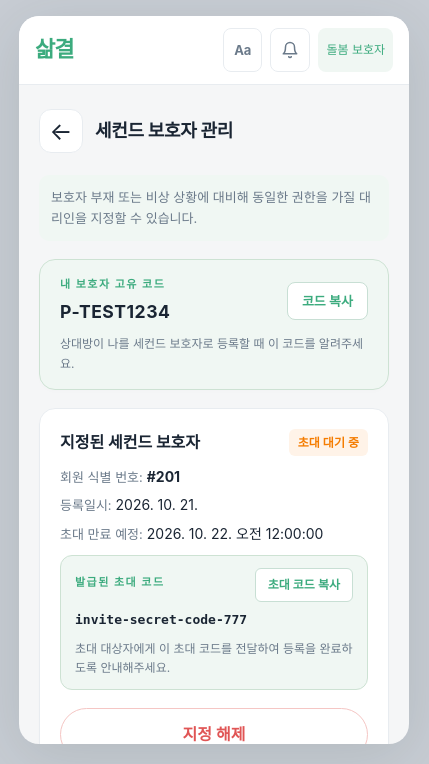
it: SecondaryGuardianPage › 초대 대기 중일 때 발급된 초대 코드가 노출되고 초대 코드 복사 버튼이 동작한다
Expected: the text "발급된 초대 코드" is shown, [75,574,165,591]
Expected: the text "invite-secret-code-777" is shown, [75,612,247,627]
Click the button "초대 코드 복사" at (304, 585), box [255,568,353,602]
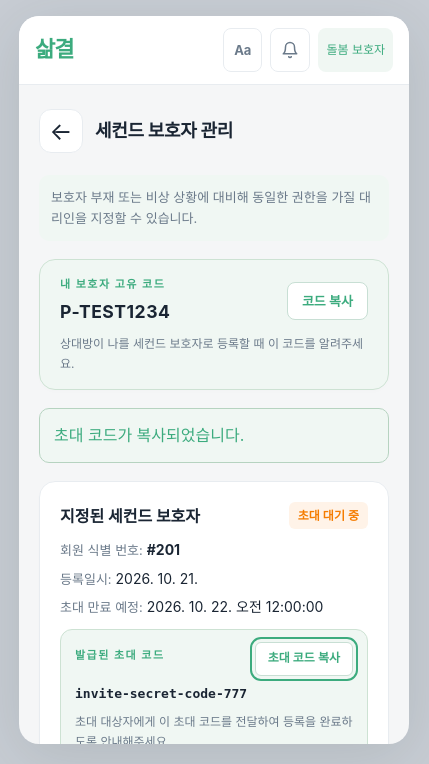
Expected: the message reads "초대 코드가 복사되었습니다.", [54,425,244,445]
